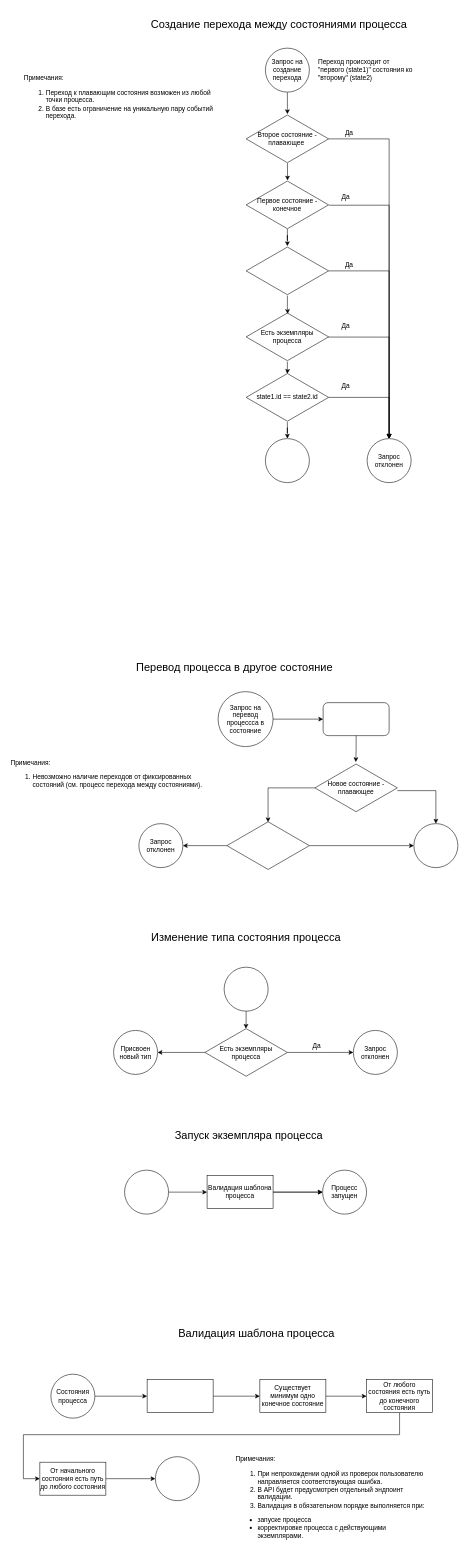
Image size: 468x1555. Some labels were removed from this diagram. The shapes that lost their labels are listed below. From the top down, each one's box as (x1, y1, x2, y2) in pixels, then its label:
(246, 246, 329, 296): Второе состояние - начальное
(265, 438, 309, 483): Новый переход создан
(323, 702, 389, 736): Проверка существования процесса
(226, 820, 309, 870): Существует переход от текущего состояния к новому
(413, 823, 458, 868): Процесс в новом состоянии
(224, 967, 268, 1011): Запрос на изменение типа
(124, 1170, 169, 1214): Запрос на запуск экземпляра
(147, 1379, 213, 1413): Существует только одно начальное состояние
(155, 1456, 199, 1501): Шаблон валидирован
